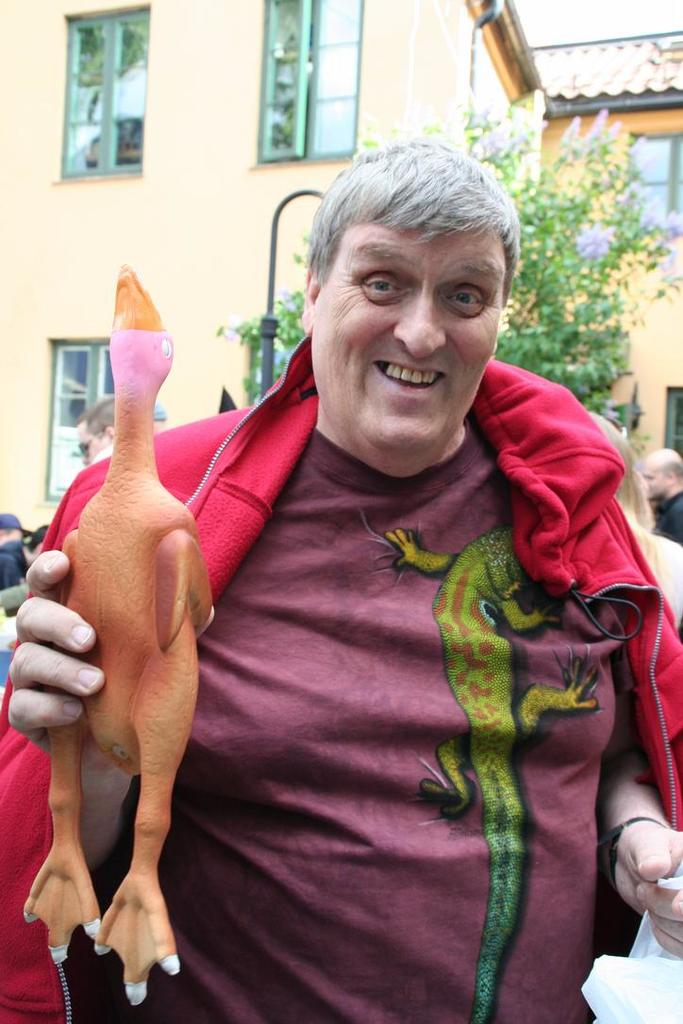Human-face: (315, 222, 509, 461)
